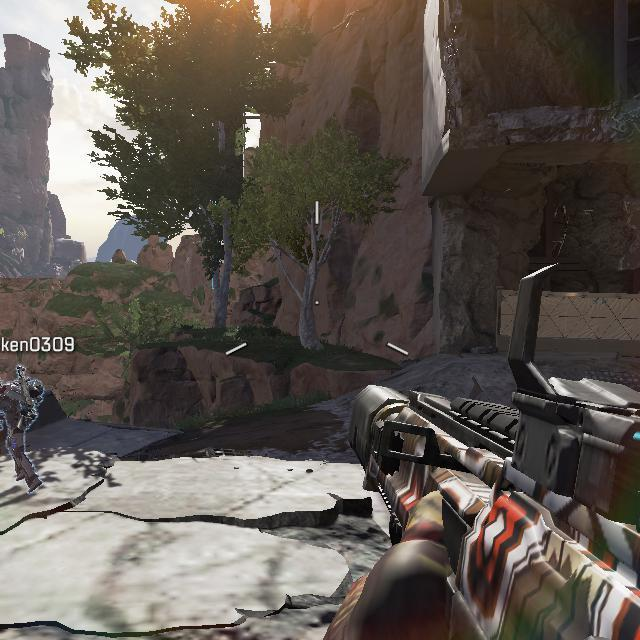avatar: (0, 375, 46, 494)
